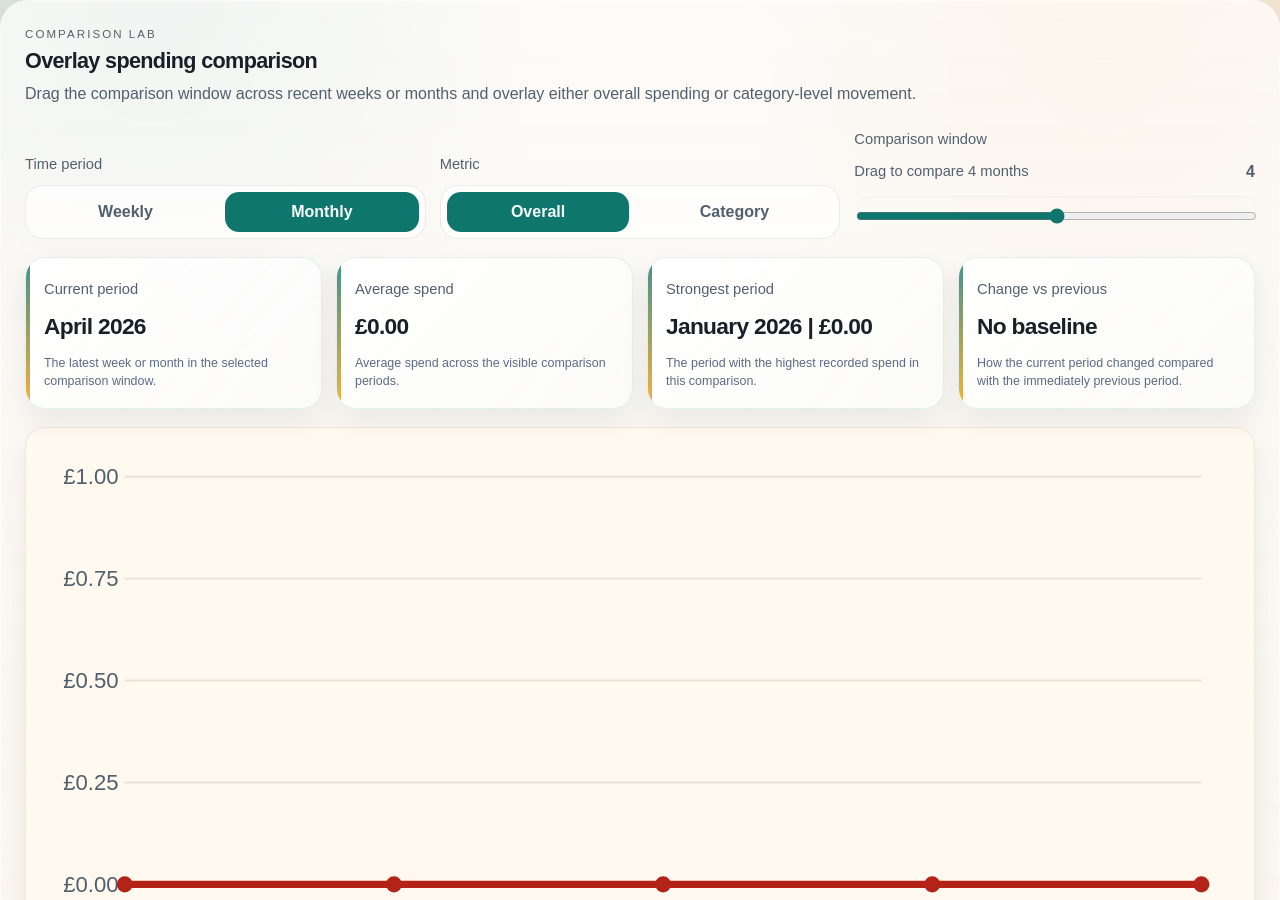
Test: frontend strict branch fill › covers category comparison empty-state branch
Click the button "Category" at (734, 212), box [635,192,833,232]
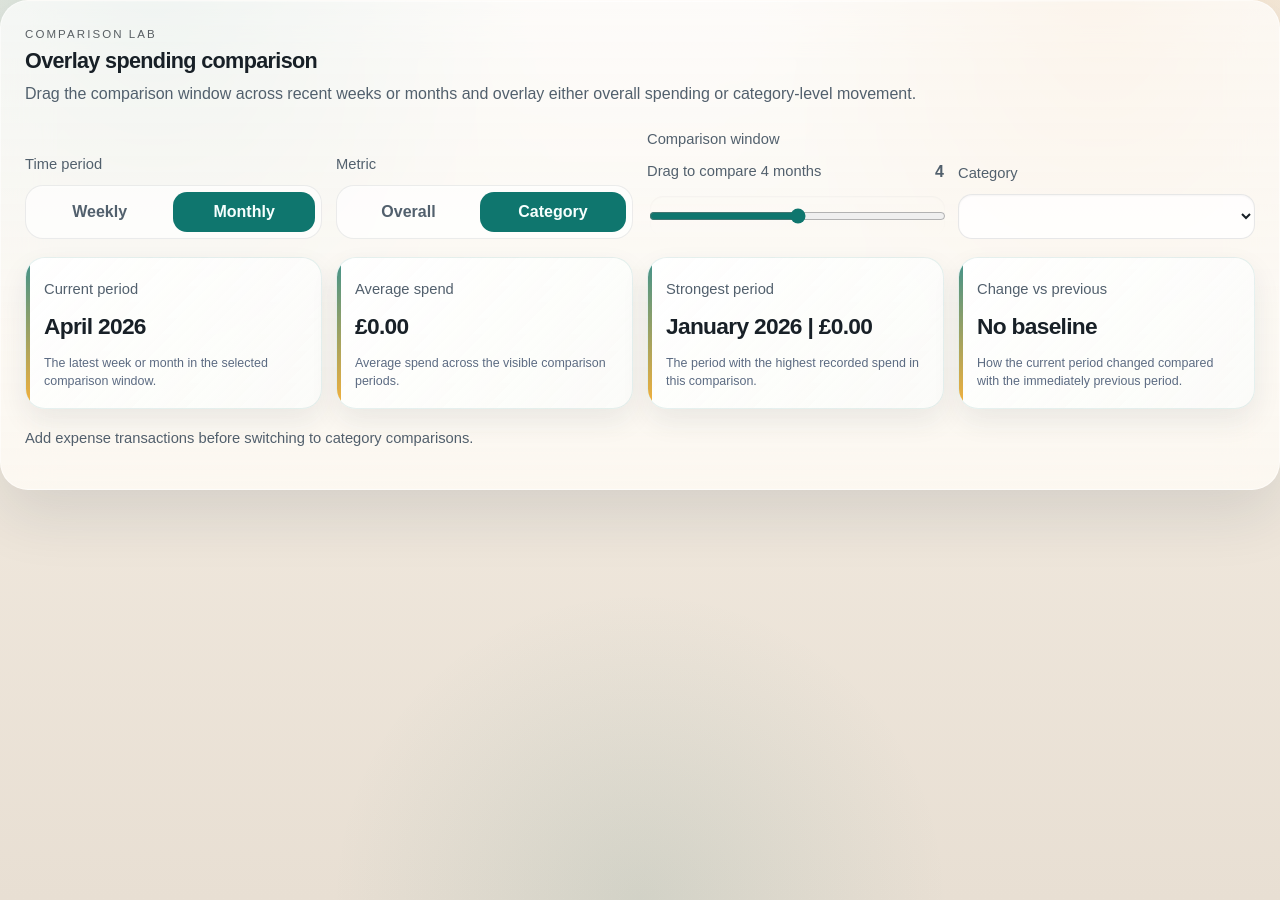
Expected: the text "Add expense transactions before switching to category comparisons." is shown, [25,430,473,446]
